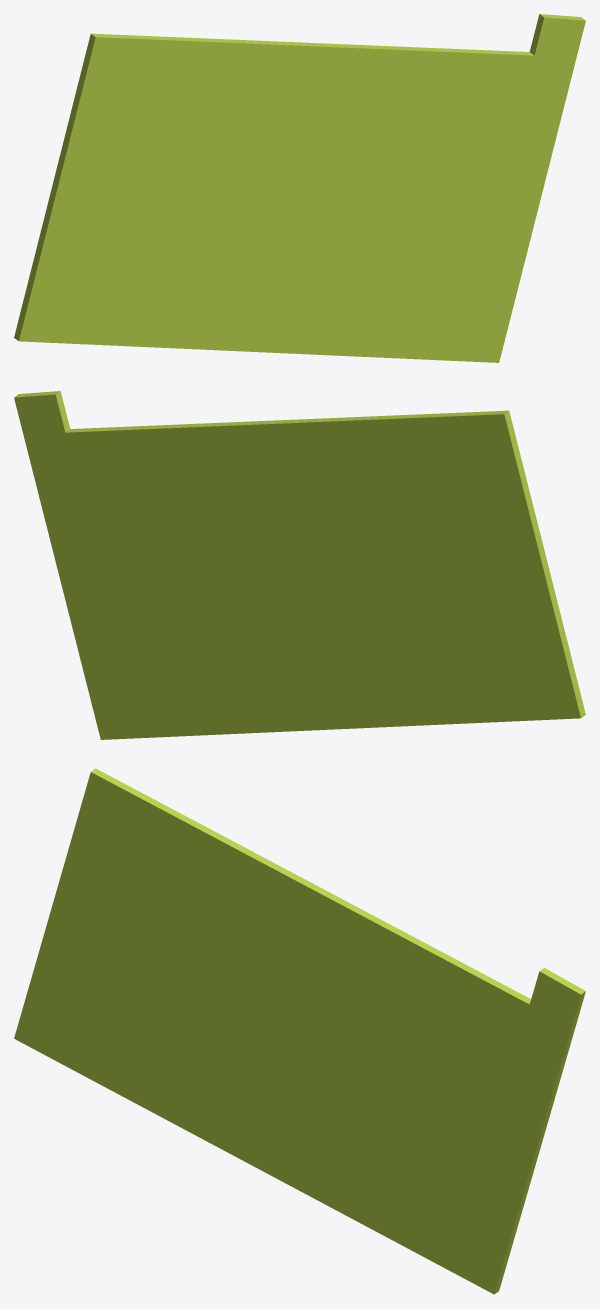
3 views of the same model, one above another, from view 1: azimuth 30°, elevation 25°; view 2: azimuth 150°, elevation 25°; view 3: azimuth 330°, elevation 25° (orthographic).
Parts seen in each view (by area): view 1: osm-way27917482-F0; view 2: osm-way27917482-F0; view 3: osm-way27917482-F0.
Part boxes in pixels (box(x1,y1,x2,y2)): osm-way27917482-F0: box(14, 14, 585, 362); osm-way27917482-F0: box(14, 391, 585, 739); osm-way27917482-F0: box(14, 768, 585, 1294).
Size of the model in its own units: 9.99 by 7.14 by 0.15.
